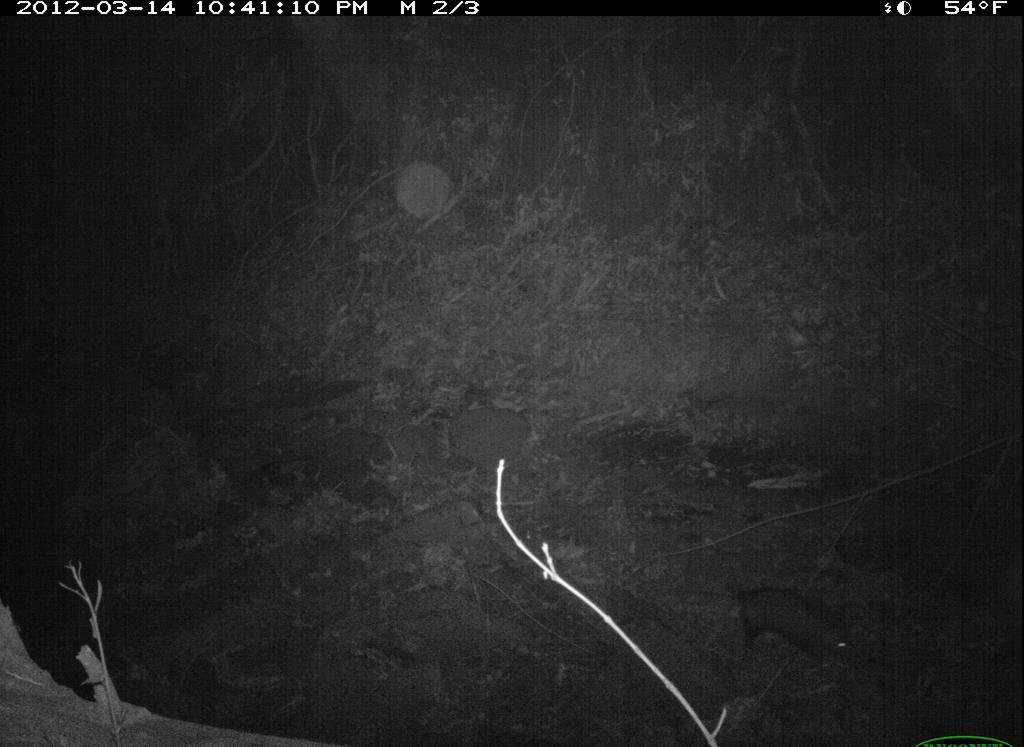opossum: (664, 564, 862, 676)
